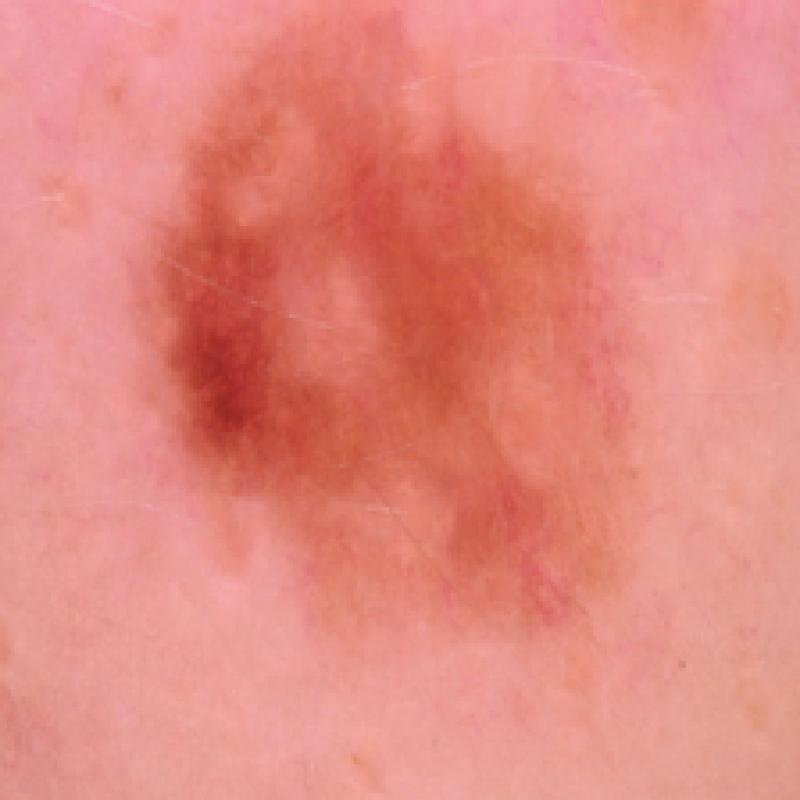benign: (129, 31, 668, 652)
